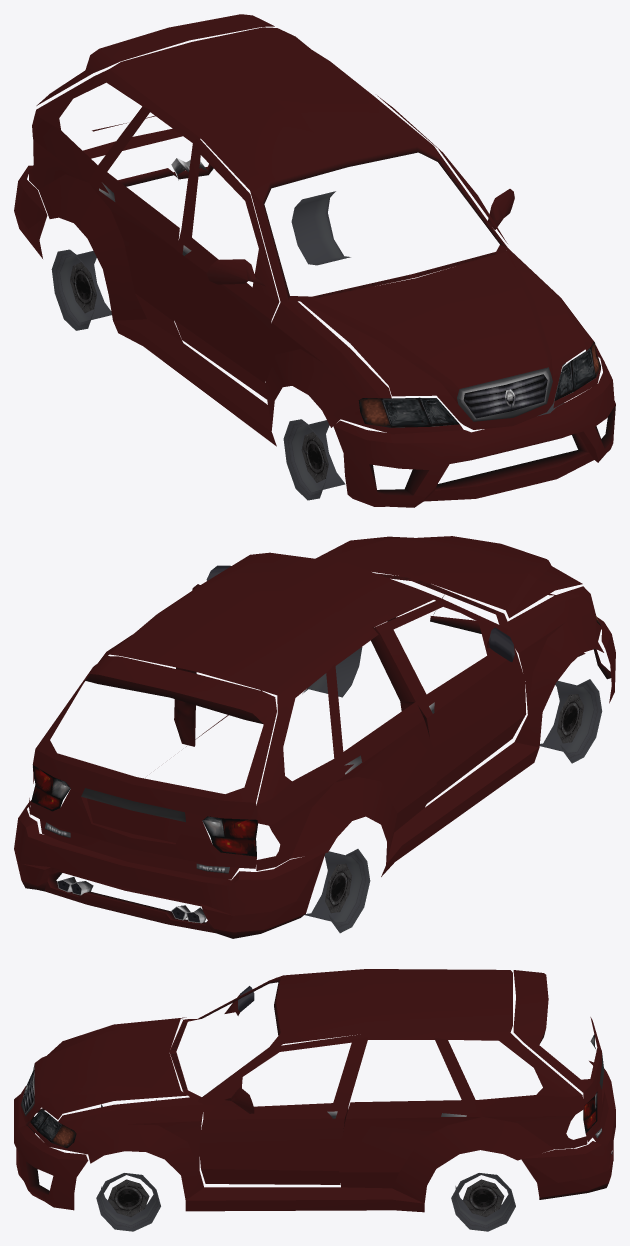
Rendered from car-HEVY_Car3.glb.
The picture shows the model from 3 angles, top to bottom: view 1: azimuth 30°, elevation 25°; view 2: azimuth 150°, elevation 25°; view 3: azimuth 270°, elevation 25°; orthographic projection. The views are drawn at different scales.
Parts seen in each view (by area): view 1: HEVY_Car3; view 2: HEVY_Car3; view 3: HEVY_Car3.
Boxes of the visible parts, x1=… form: HEVY_Car3: x1=14, y1=14, x2=615, y2=507; HEVY_Car3: x1=14, y1=536, x2=615, y2=938; HEVY_Car3: x1=14, y1=969, x2=615, y2=1231.
Bounding box in the file's own units: 2.15 × 1.61 × 4.75.
19 materials, 19 textured.
